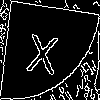X: (25, 25, 62, 75)
